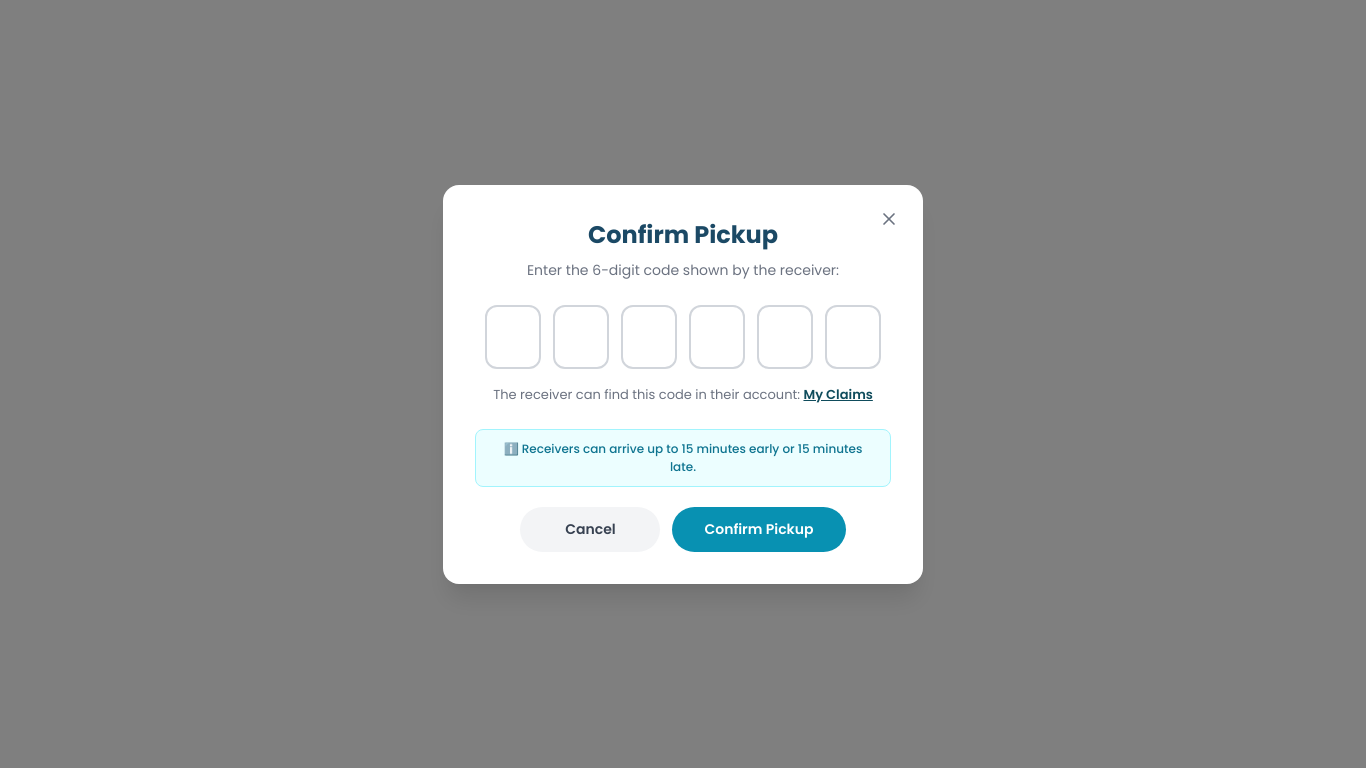
ConfirmPickupModal › shows error when donationItem is invalid
Type "1" into the 1st field at (513,336), box [485,304,541,368]
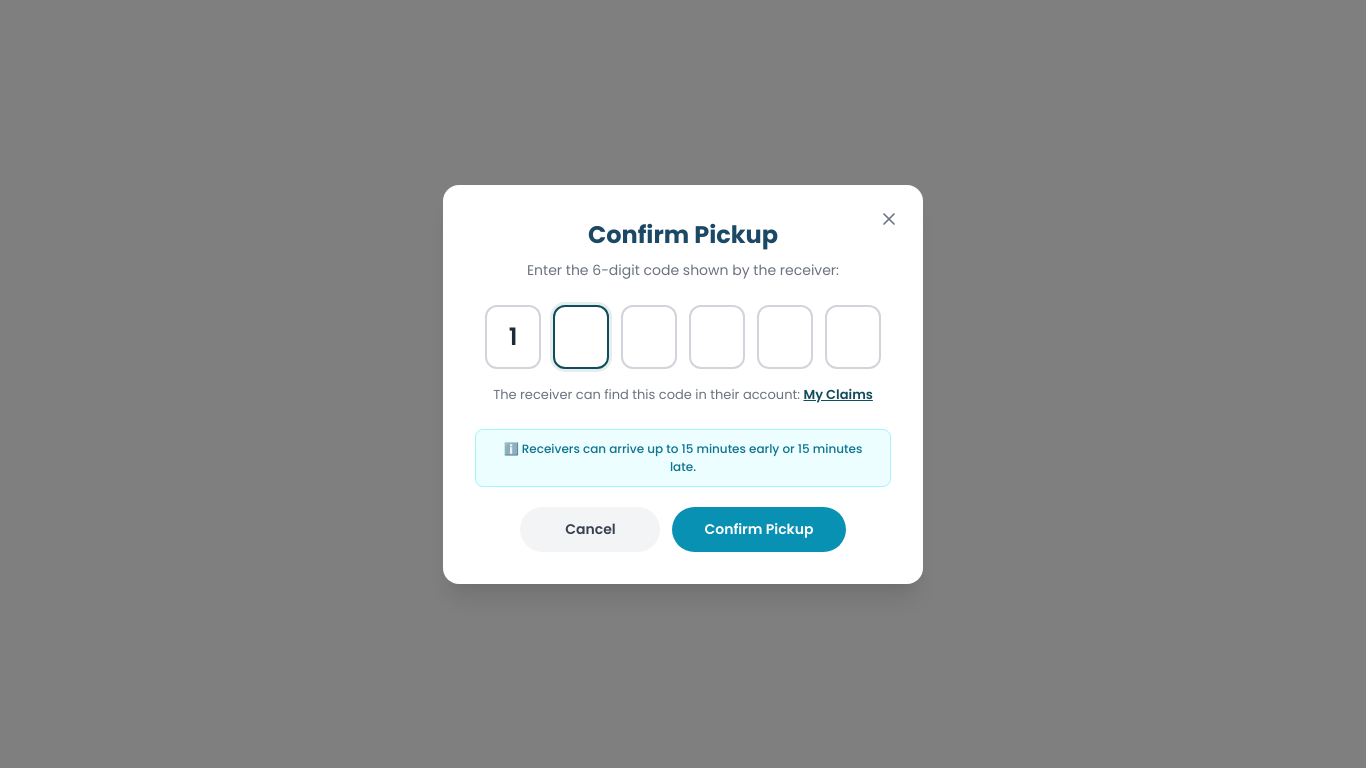
Type "2" into the 2nd field at (581,336), box [553,304,609,368]
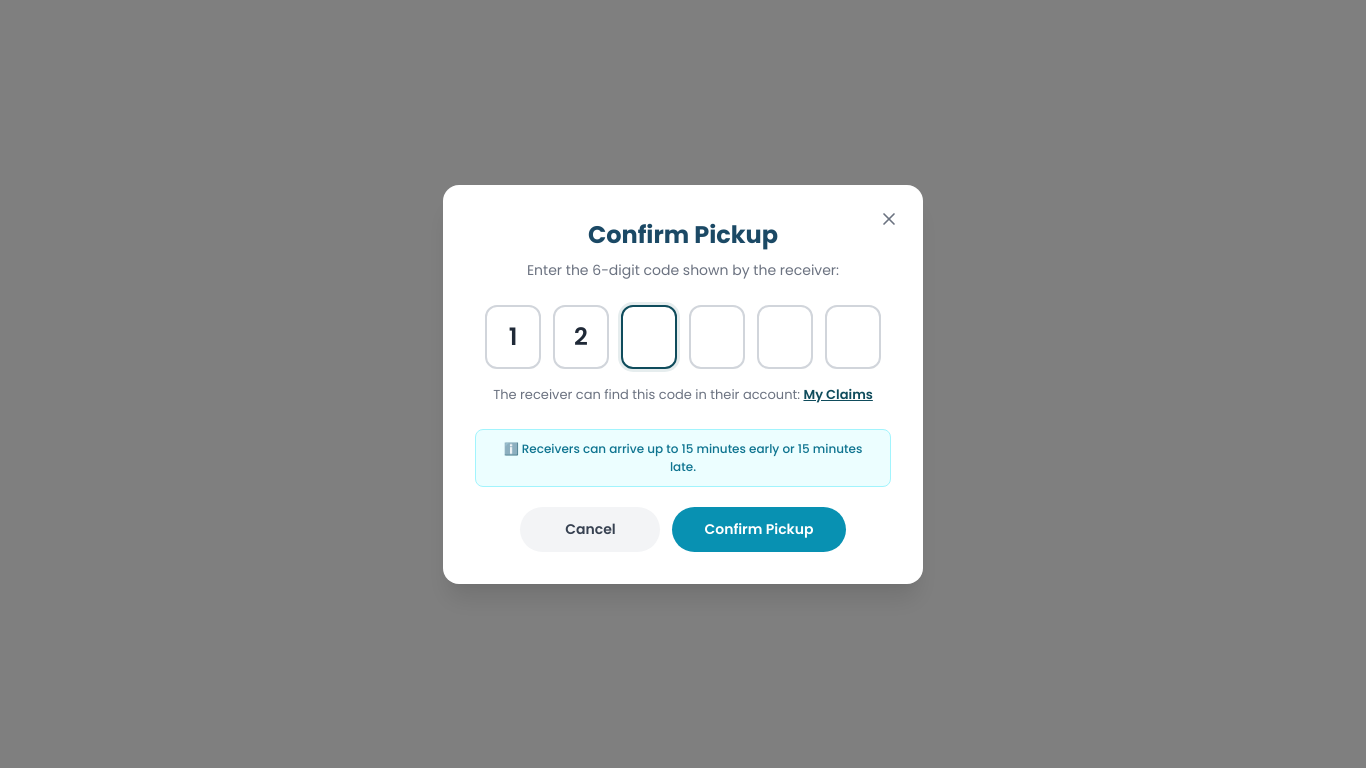
Type "3" into the 3rd field at (649,336), box [621,304,677,368]
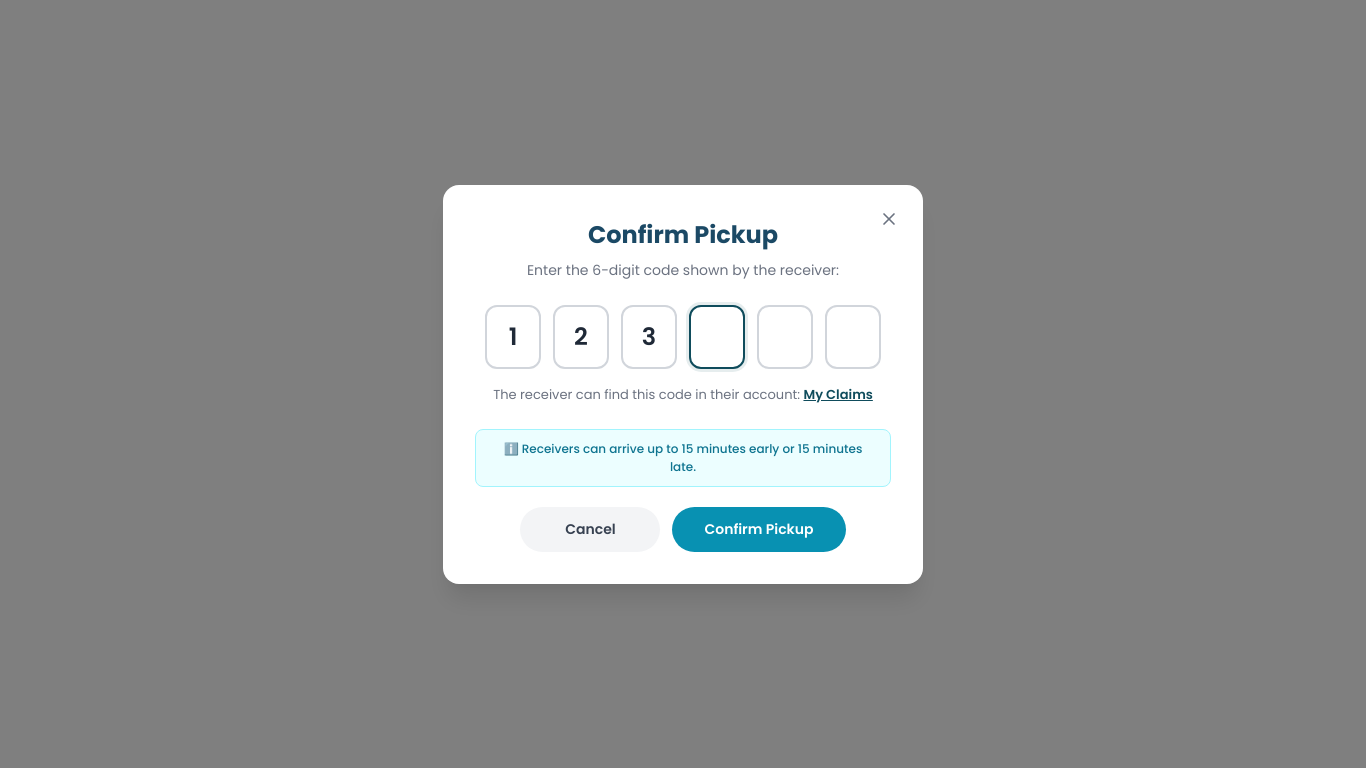
Type "4" into the 4th field at (717,336), box [689,304,745,368]
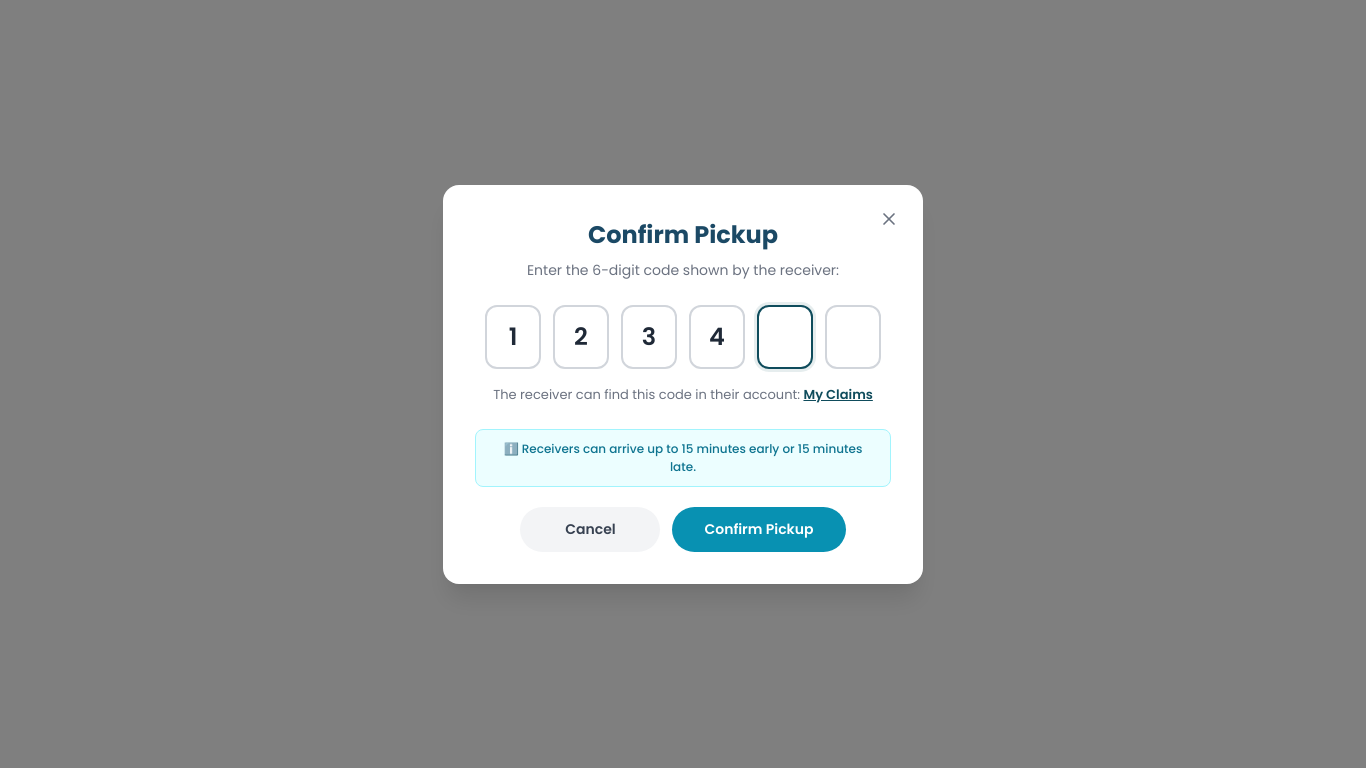
Type "5" into the 5th field at (785,336), box [757,304,813,368]
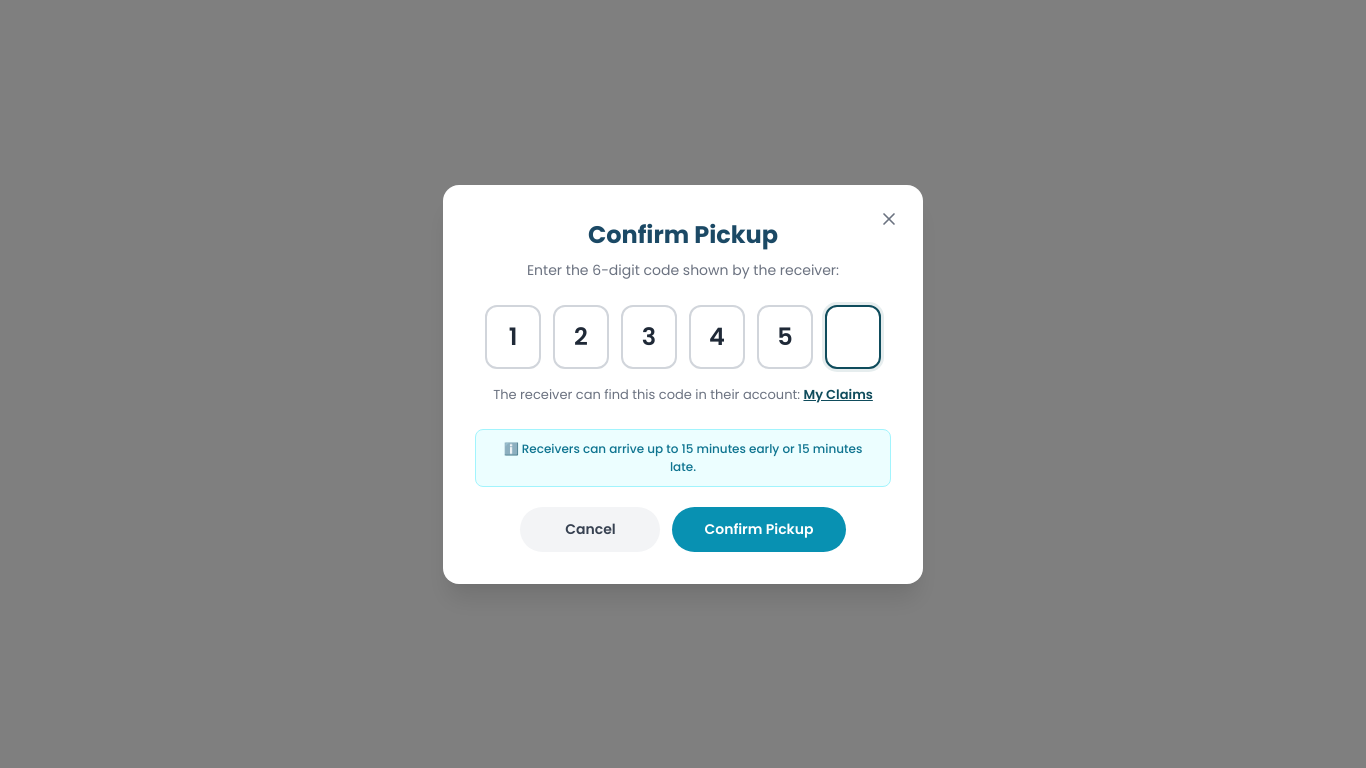
Type "6" into the 6th field at (853,336), box [825,304,881,368]
Click the button "Confirm Pickup" at (759,529), box [672,506,846,552]
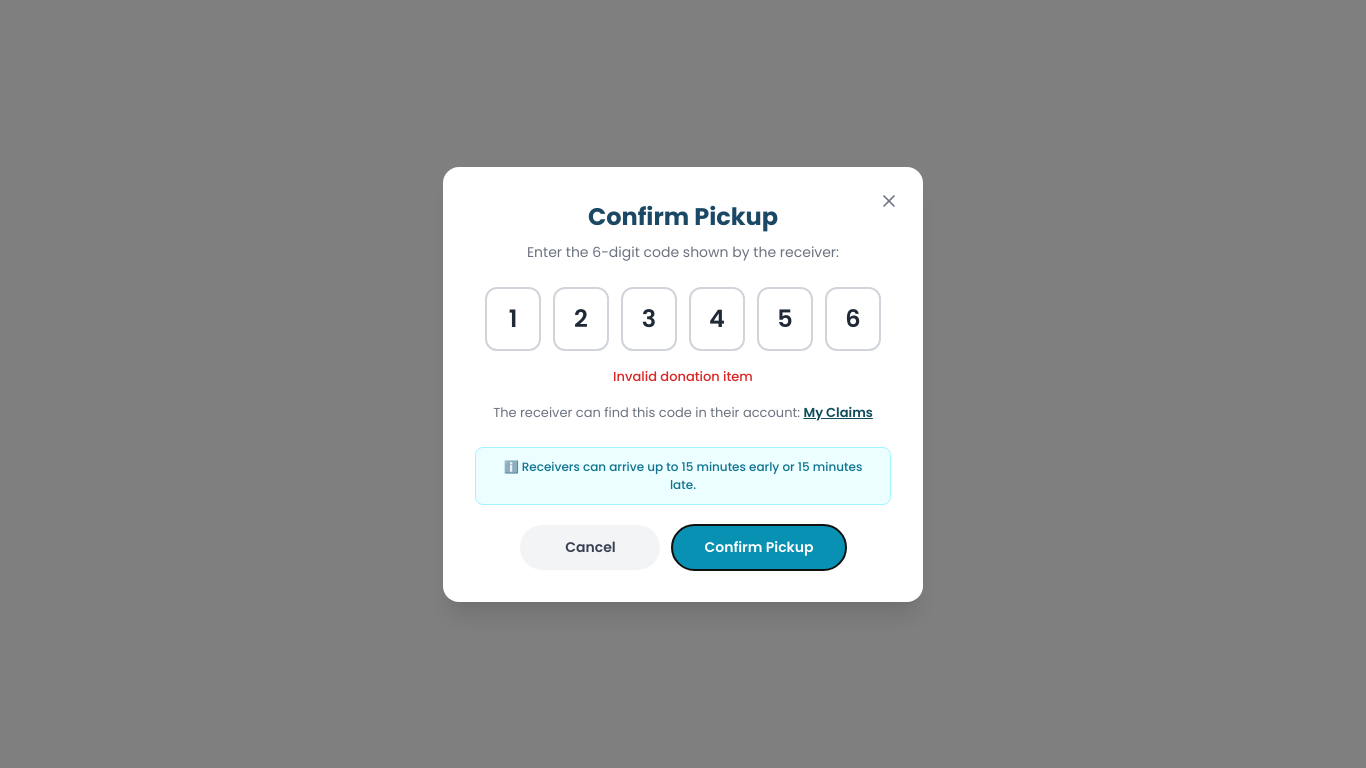
Check: the text "Invalid donation item" is shown, box [613,366,753,386]
